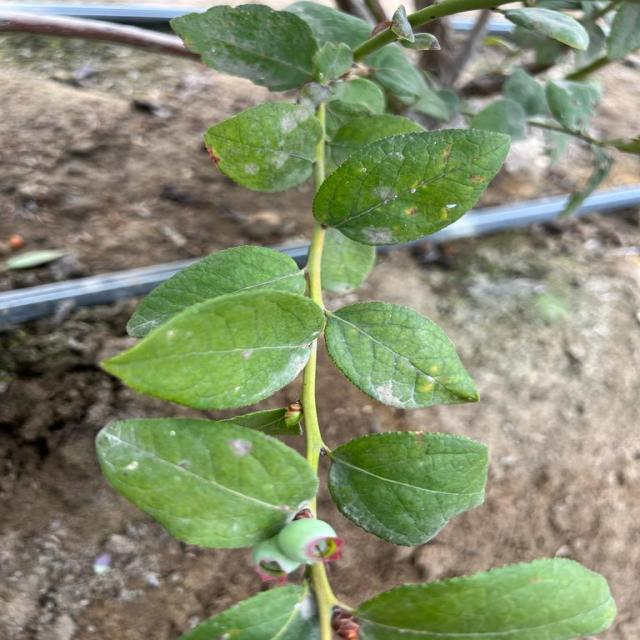Hojas con oidiosis: (107, 426, 275, 506), (350, 144, 470, 241), (215, 339, 321, 393), (237, 114, 307, 181), (352, 368, 427, 414)
Hojas sanas sin oidiosis: (378, 590, 614, 636)
